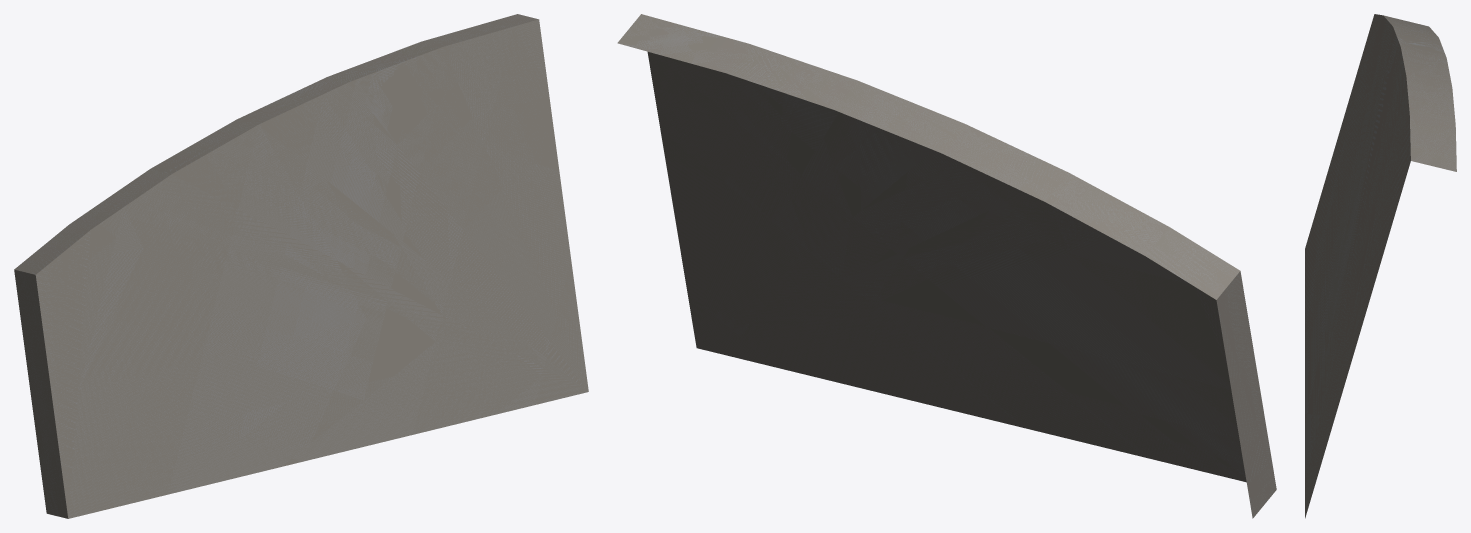
The model's file is original-150.obj.
The picture shows the model from 3 angles, left to right: view 1: azimuth 30°, elevation 25°; view 2: azimuth 150°, elevation 25°; view 3: azimuth 270°, elevation 25°; orthographic projection. The views are drawn at different scales.
Parts seen in each view (by area): view 1: mesh126/mesh126-geometry/material_3/component_1#mesh126-geometry; view 2: mesh126/mesh126-geometry/material_3/component_1#mesh126-geometry; view 3: mesh126/mesh126-geometry/material_3/component_1#mesh126-geometry.
Boxes of the visible parts, x1,y1,x2,y2 form: mesh126/mesh126-geometry/material_3/component_1#mesh126-geometry: (14,14,588,518); mesh126/mesh126-geometry/material_3/component_1#mesh126-geometry: (617,14,1276,518); mesh126/mesh126-geometry/material_3/component_1#mesh126-geometry: (1305,14,1456,518).
Size of the model in its own units: 0.0168 by 0.0107 by 0.00398.
